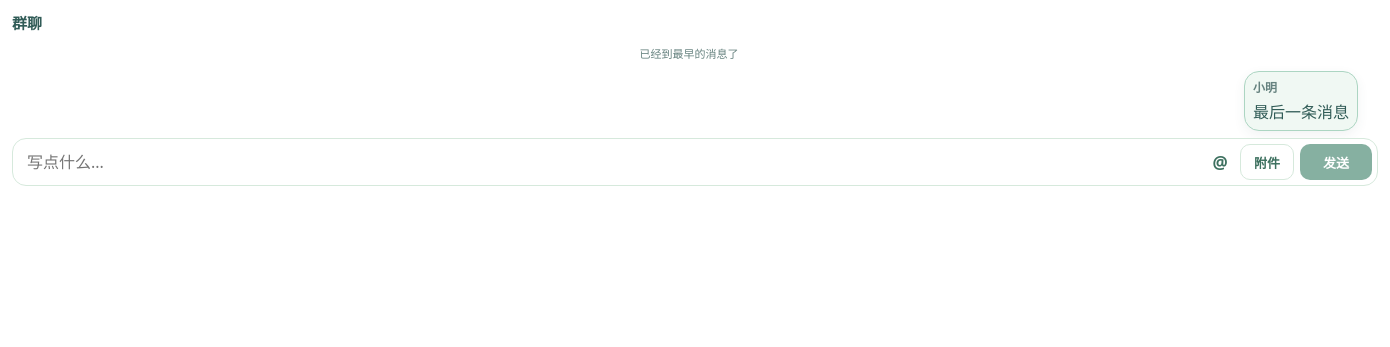
Test: ChatPanel 底部位置恢复 › 被提及的消息进入聊天可视区后清除有人@你提示
Click the button with class "chat-mention-button".
click(1220, 162)  # box [1206,144,1234,180]
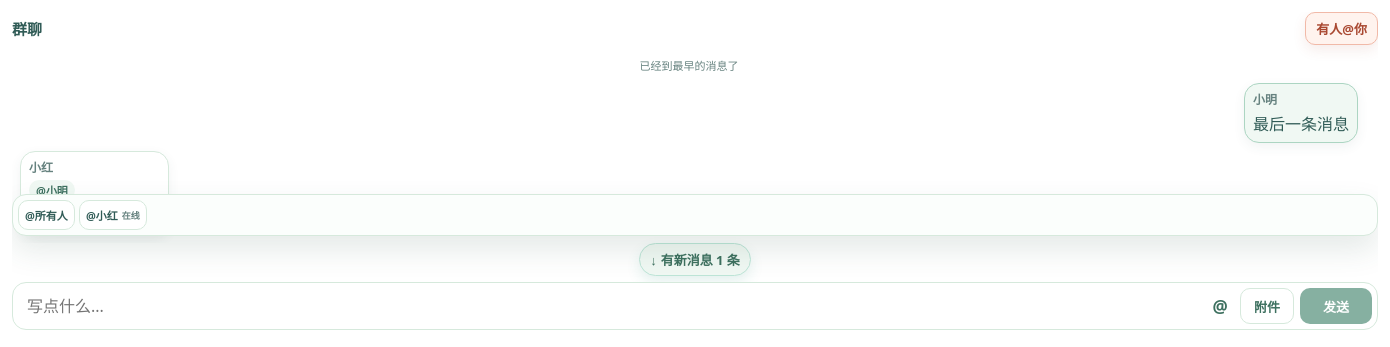
Check: the element with class "chat-list" is shown, box [12,55,1378,243]
Check: the button with class "chat-mention-alert" is shown, box [1305,12,1378,45]
Check: the element showing "小红 @小明 @小明 看一下这里" is shown, box [20,151,168,236]
